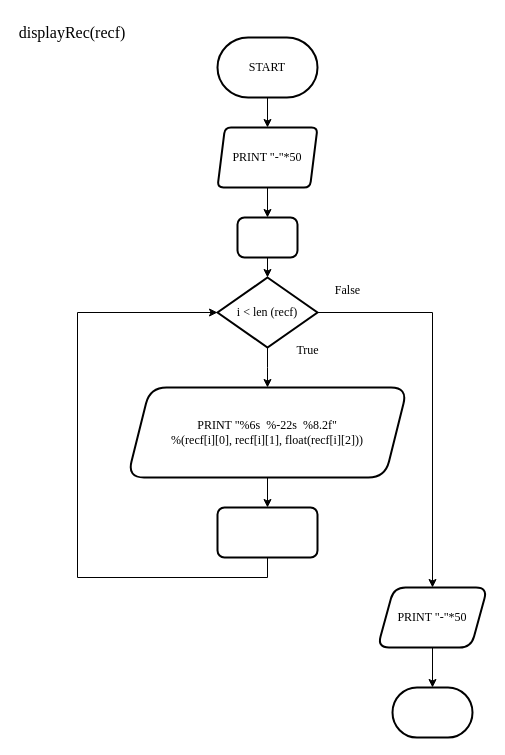
This 505x755 diagram has some shape labels left out. Here are the shapes that lost their labels. From the top down, the centre of each, then its label:
At point (267, 237): "i = 0".
At point (267, 532): "i += 1".
At point (432, 712): "END".
